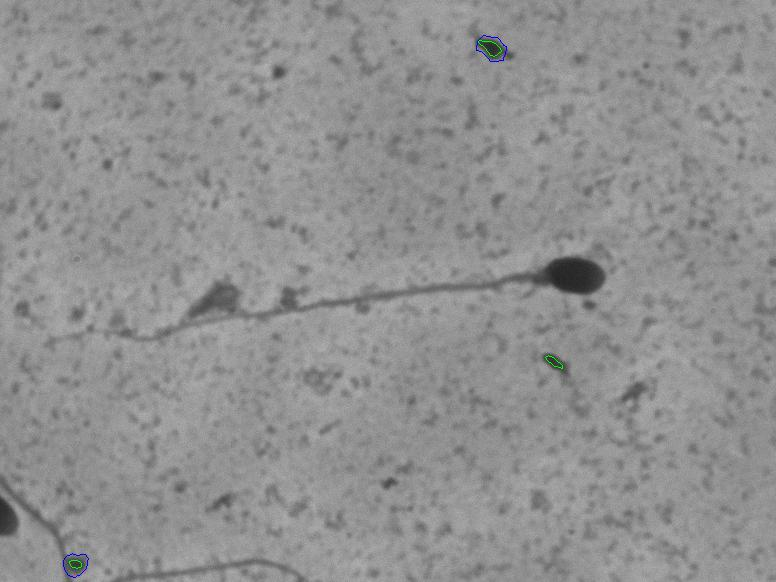Abnormal: (38, 244, 650, 355)
